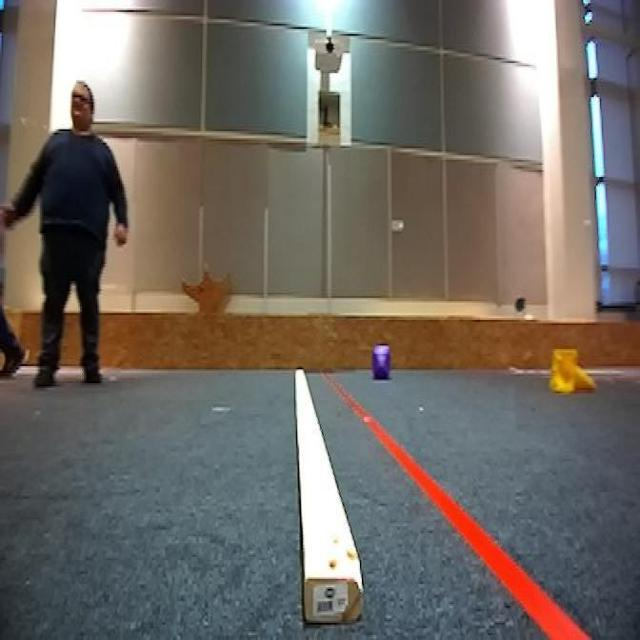frc_cone: (547, 344, 596, 396)
frc_cube: (370, 342, 394, 380)
